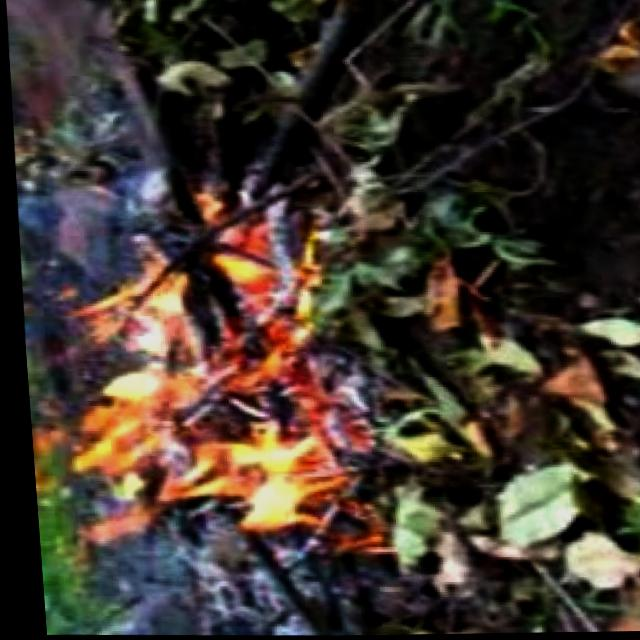Fire: (32, 196, 348, 563)
